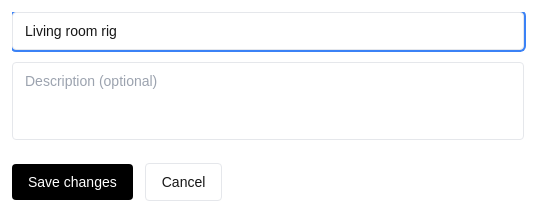
Test: EditSystemForm › Submission › shows "Saving…" while the request is in flight
The image size is (543, 218).
Click the button "Save changes": [72, 182] box [12,164,133,200]
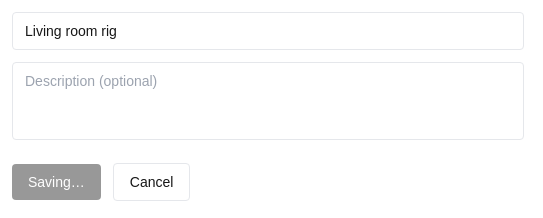
Expected: the button "Saving…" is disabled, [12,164,101,200]
